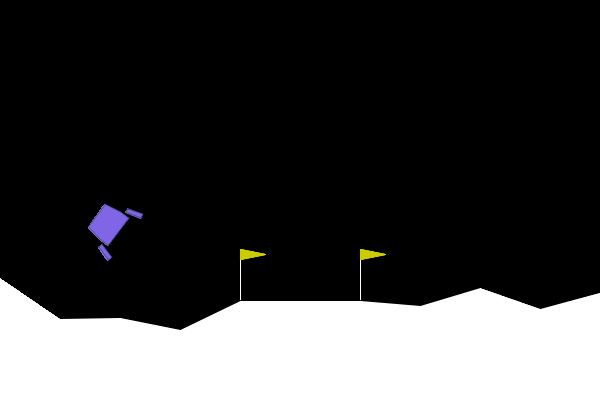lander: (77, 191, 145, 263)
